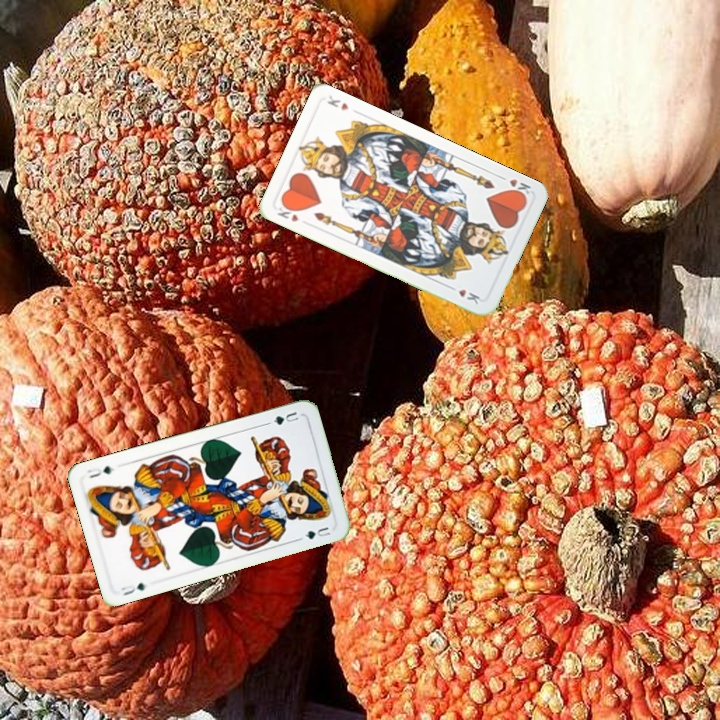GU: (263, 407, 301, 428), (117, 579, 148, 598)
HK: (495, 172, 533, 200), (273, 200, 301, 225)
